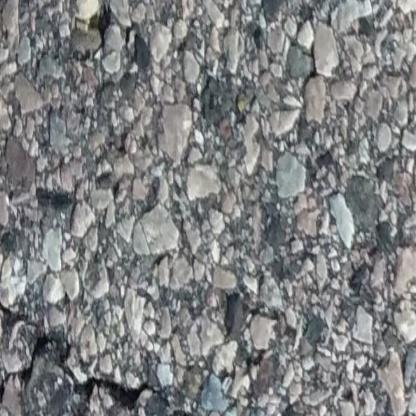Cracks: (0, 270, 234, 416)
